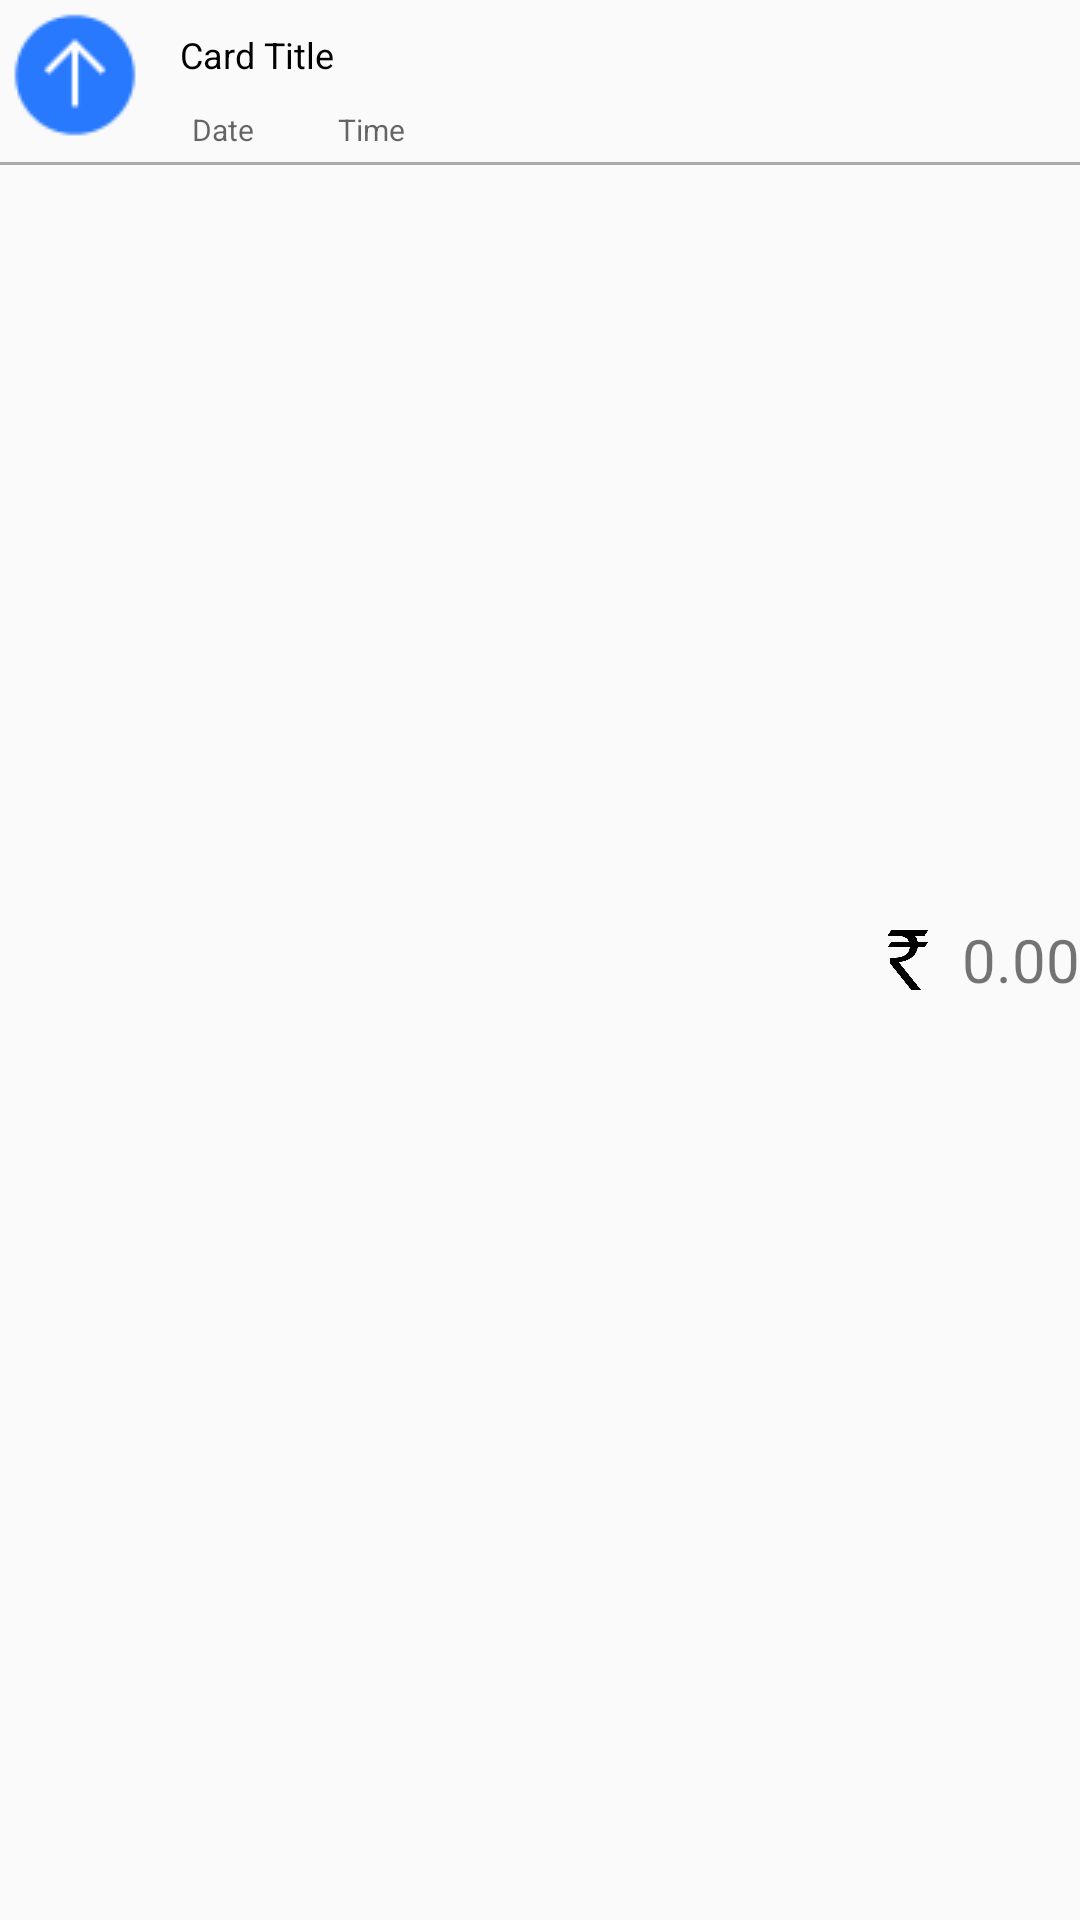

Named icons in this screenshot (1080px x 1920px) and their bounding boxes, (x1, y1, x2, y2):
rupee: (888, 930, 928, 990)
